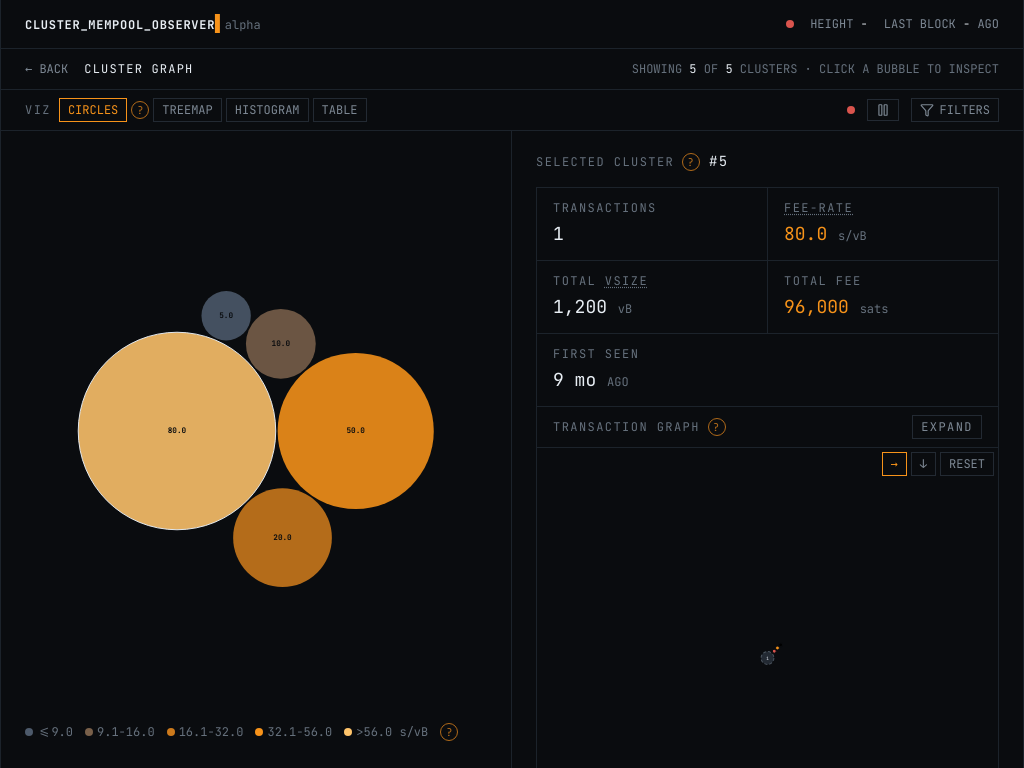
Test: Clusters page: the URL restores the viz config › heals a mangled URL instead of rendering a broken view
The image size is (1024, 768).
Check: the text "CLUSTER GRAPH" is shown, box [84,61,193,77]
Click the button named "Toggle filters" at (955, 110), box [911,98,999,122]
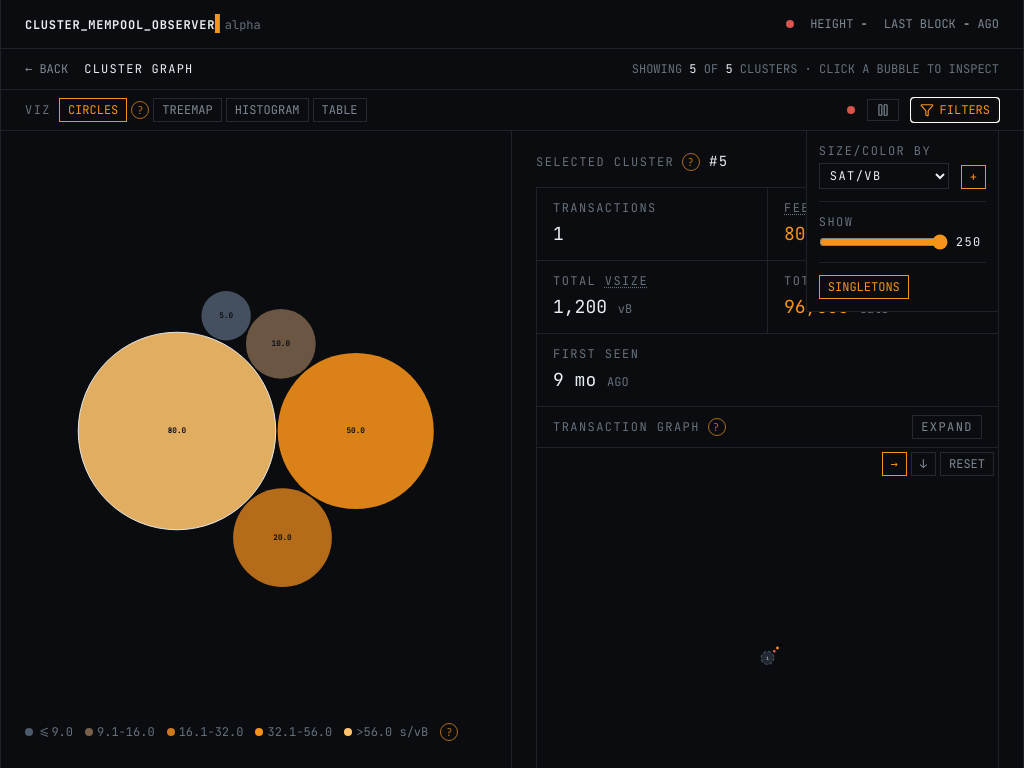
Check: the dropdown labelled "SIZE/COLOR BY" shows "SAT/VB", box [819,163,949,189]
Check: the slider labelled "SHOW 250" holds "250", box [819,234,948,250]
